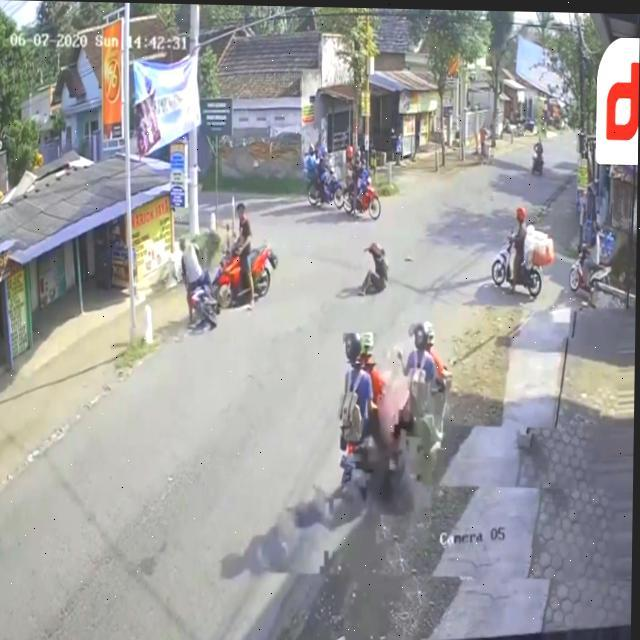multiple_accident: (170, 207, 277, 328)
normal: (490, 203, 563, 314)
